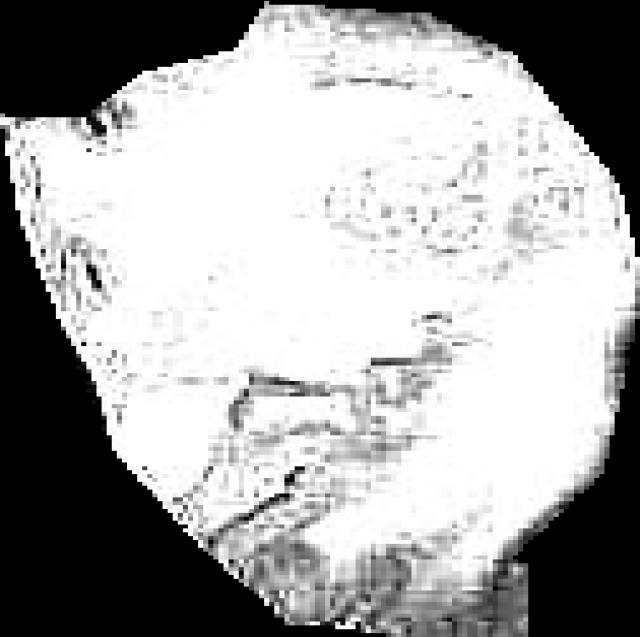tumor_less_chance: (0, 1, 640, 637)
